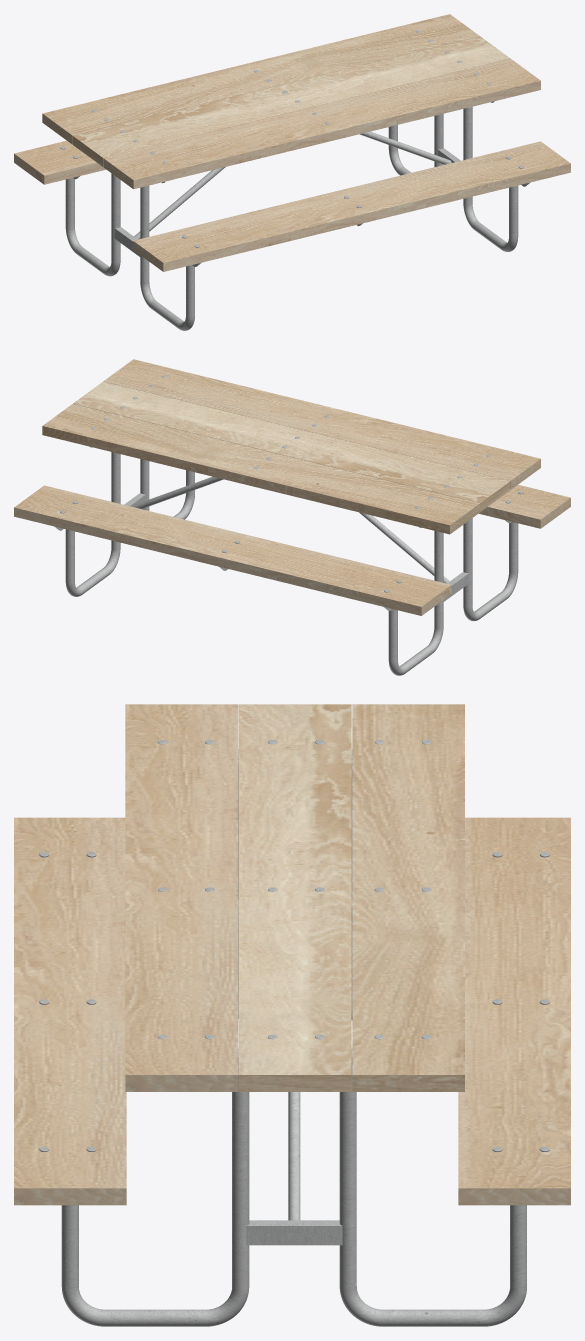
The model's file is uploads_files_4378303_Picnic_table.fbx.
The picture shows the model from 3 angles, top to bottom: view 1: azimuth 30°, elevation 25°; view 2: azimuth 150°, elevation 25°; view 3: azimuth 270°, elevation 25°; orthographic projection. The views are drawn at different scales.
Parts seen in each view (by area): view 1: Table_Picnic; view 2: Table_Picnic; view 3: Table_Picnic.
Part boxes in pixels (x1=…): Table_Picnic: x1=14, y1=14, x2=570, y2=330; Table_Picnic: x1=14, y1=359, x2=570, y2=675; Table_Picnic: x1=14, y1=704, x2=570, y2=1326.
Size of the model in its own units: 205 by 74.8 by 130.
2 materials, 2 textured.
